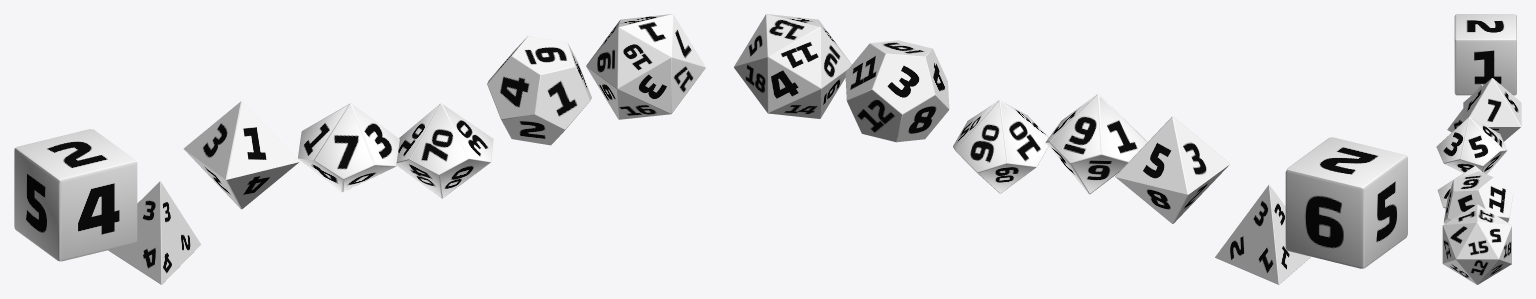
The model's file is dados_00.FBX.
The picture shows the model from 3 angles, left to right: view 1: azimuth 30°, elevation 25°; view 2: azimuth 150°, elevation 25°; view 3: azimuth 270°, elevation 25°; orthographic projection. The views are drawn at different scales.
Parts seen in each view (by area): view 1: 6, 20, 12, 8, Mesh, Mesh001, pPyramid003; view 2: 6, 20, 12, 8, Mesh, Mesh001, pPyramid003; view 3: 6, 20, Mesh, 12, 8, Mesh001, pPyramid003.
Part boxes in pixels (box(x1,y1,x2,y2)): 6: box(14, 129, 137, 261); 20: box(586, 14, 705, 119); 12: box(487, 36, 591, 145); 8: box(183, 101, 299, 209); Mesh: box(298, 103, 399, 192); Mesh001: box(396, 103, 493, 198); pPyramid003: box(108, 181, 200, 284); 6: box(1285, 137, 1407, 268); 20: box(734, 14, 851, 118); 12: box(845, 40, 949, 142); 8: box(1115, 116, 1230, 223); Mesh: box(1045, 94, 1146, 194); Mesh001: box(953, 100, 1048, 193); pPyramid003: box(1215, 184, 1310, 284); 6: box(1454, 14, 1516, 95); 20: box(1442, 204, 1511, 284); Mesh: box(1436, 116, 1507, 174); 12: box(1443, 171, 1513, 223); 8: box(1463, 78, 1521, 141); Mesh001: box(1437, 166, 1483, 208); pPyramid003: box(1447, 84, 1482, 132).
Size of the model in its own units: 794 by 156 by 133.
